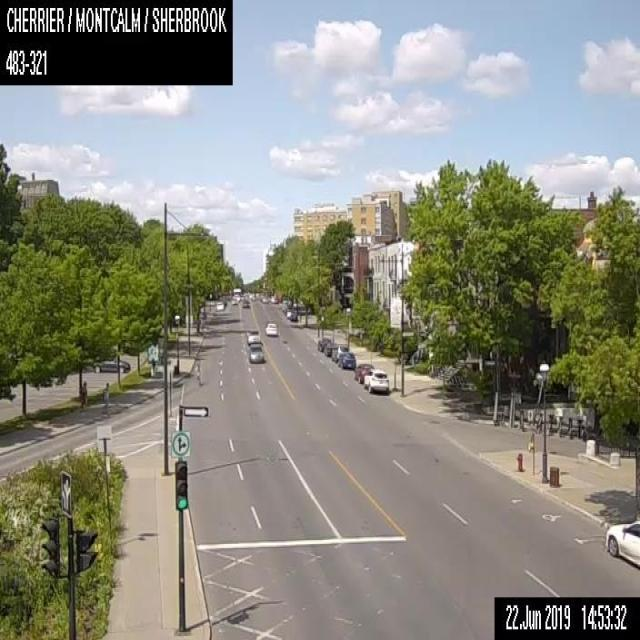pedestrian: (79, 380, 87, 411), (102, 380, 109, 408)
vehicle: (604, 517, 639, 568), (363, 368, 388, 393), (92, 358, 130, 372), (354, 362, 374, 382), (246, 342, 263, 362), (338, 351, 355, 368), (331, 344, 348, 361), (247, 328, 260, 344), (324, 341, 336, 356), (317, 337, 330, 350), (265, 322, 276, 334), (232, 286, 240, 298), (216, 300, 223, 310), (241, 298, 248, 307), (233, 294, 240, 301), (270, 295, 277, 302), (261, 296, 268, 303), (231, 296, 237, 304)
